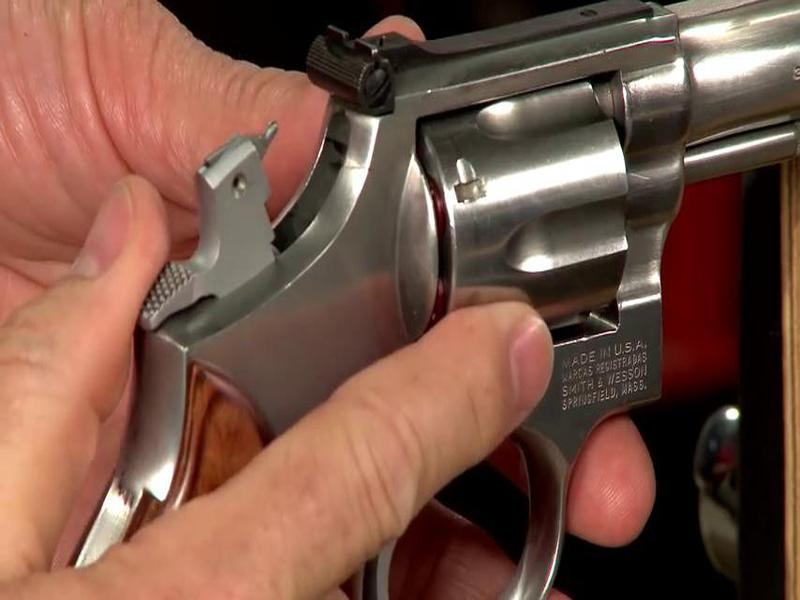Revolver: (137, 1, 797, 510)
